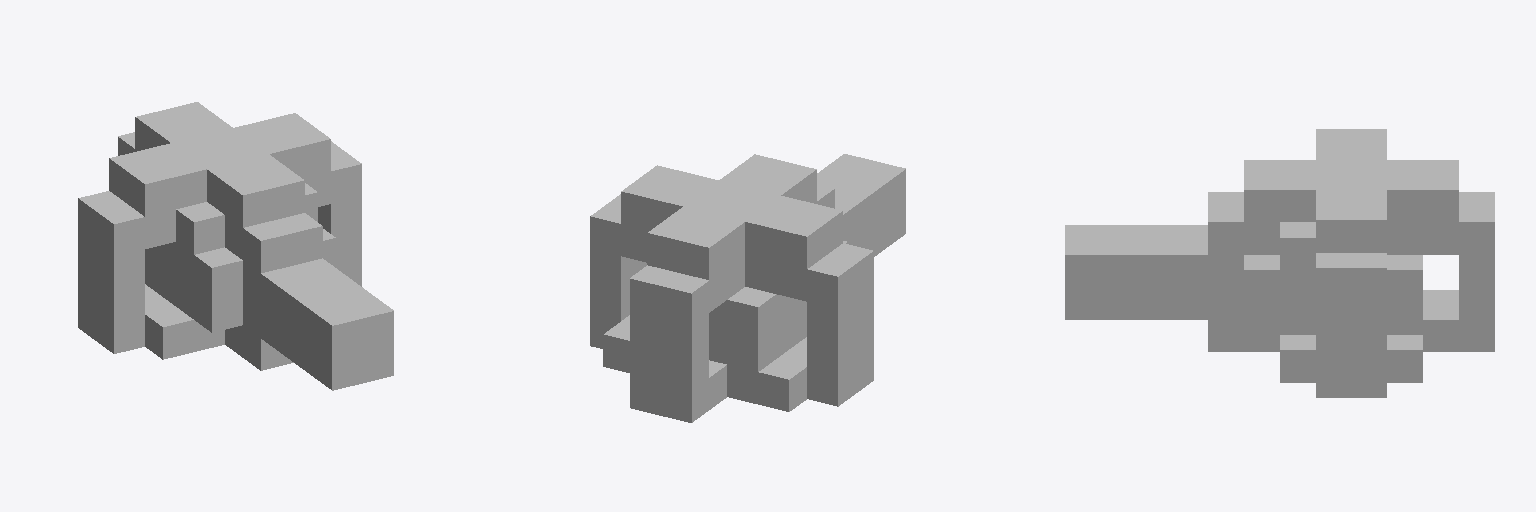
File: Turret1.obj
3 renders of one model, left to right at view 1: azimuth 30°, elevation 25°; view 2: azimuth 150°, elevation 25°; view 3: azimuth 270°, elevation 25°, orthographic.
Visible parts, largest first — view 1: object 1; view 2: object 1; view 3: object 1.
Part boxes in pixels (left/top/right/bottom): object 1: left=78, top=102, right=393, bottom=390; object 1: left=590, top=154, right=905, bottom=422; object 1: left=1065, top=129, right=1494, bottom=397.
Size of the model in its own units: 0.8 by 0.5 by 1.2.